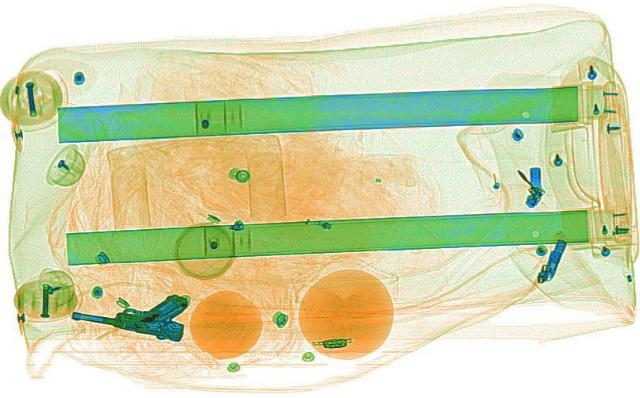Gun: (64, 277, 198, 336)
